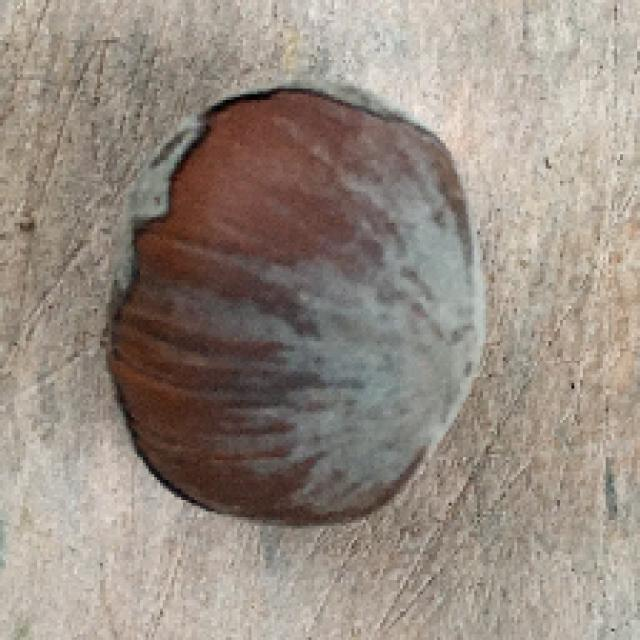damagedHazelnut: (88, 66, 489, 540)
